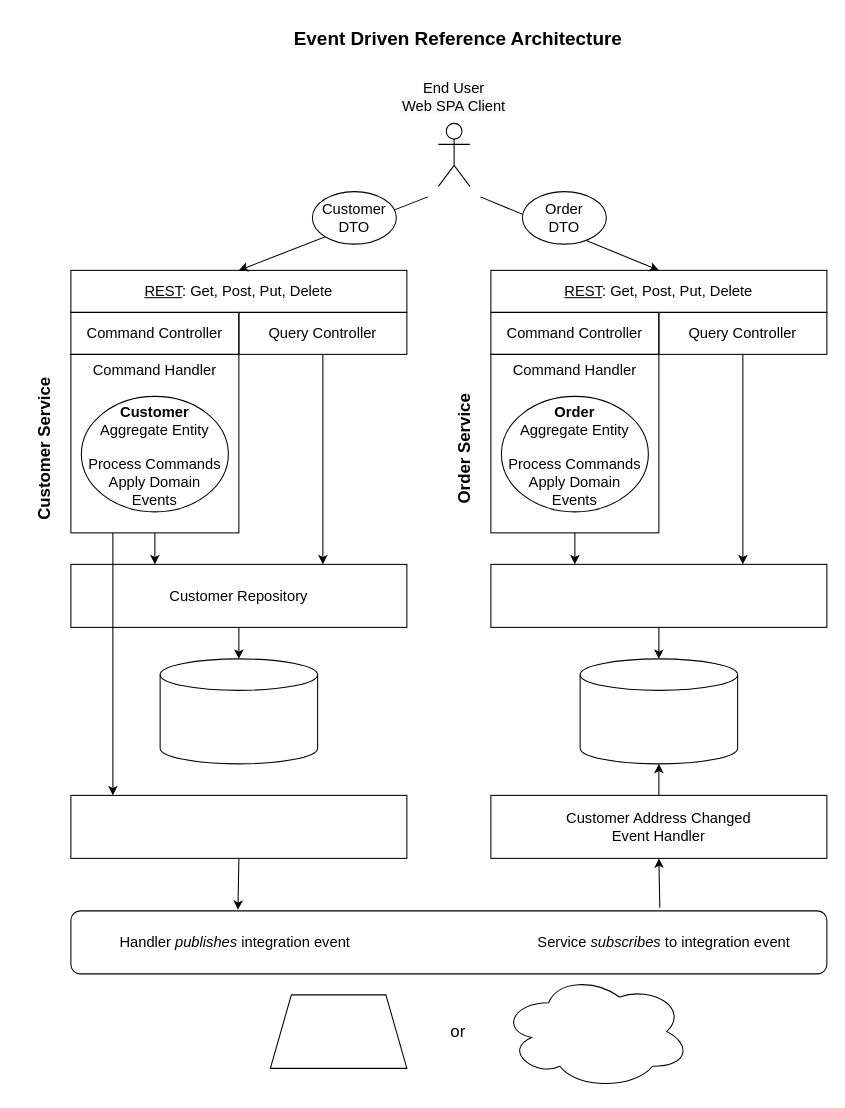
This 845x1108 diagram has some shape labels left out. The box of each missing label's shape, as (x1, y1, x2, y2) in pixels:
AWS SNS+SQS (Local or Cloud): (500, 973, 690, 1089)
Customer Address Changed Integration Event: (70, 794, 407, 858)
Customer Database: (159, 658, 318, 764)
Dapr Event Bus: (70, 910, 827, 974)
Order Database: (579, 658, 738, 764)
Order Repository: (490, 563, 827, 627)
Redis (Local): (269, 994, 407, 1068)
